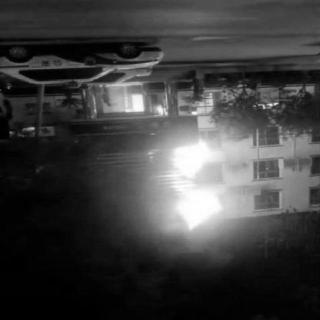Fire: (166, 139, 238, 236)
